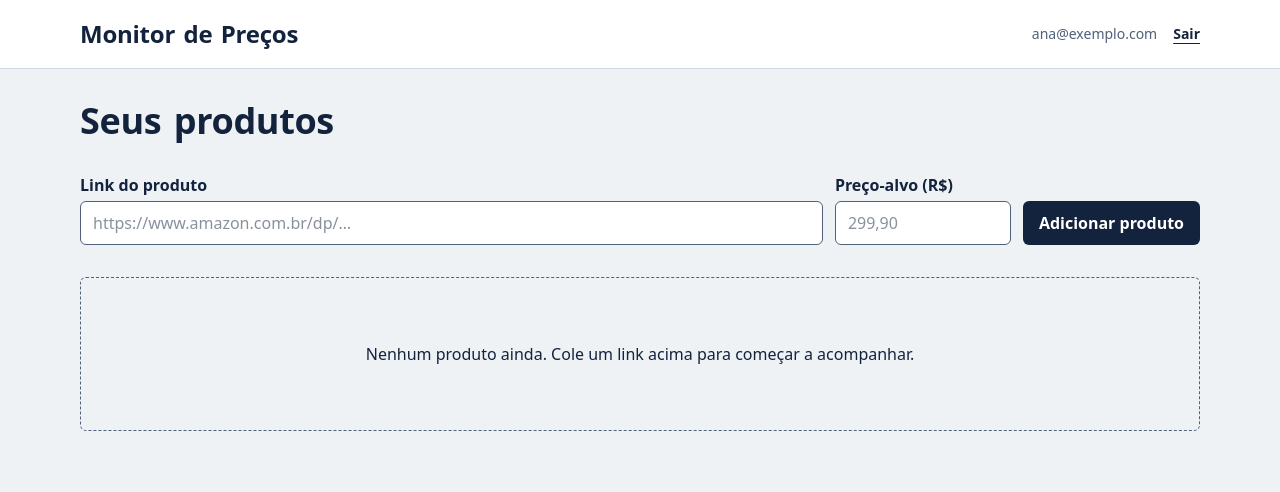
Test: formulário valida antes de enviar
Type "https://kabum.com.br/x" into the field labelled "Link do produto" at {"x": 451, "y": 223}, box [80, 201, 823, 245]
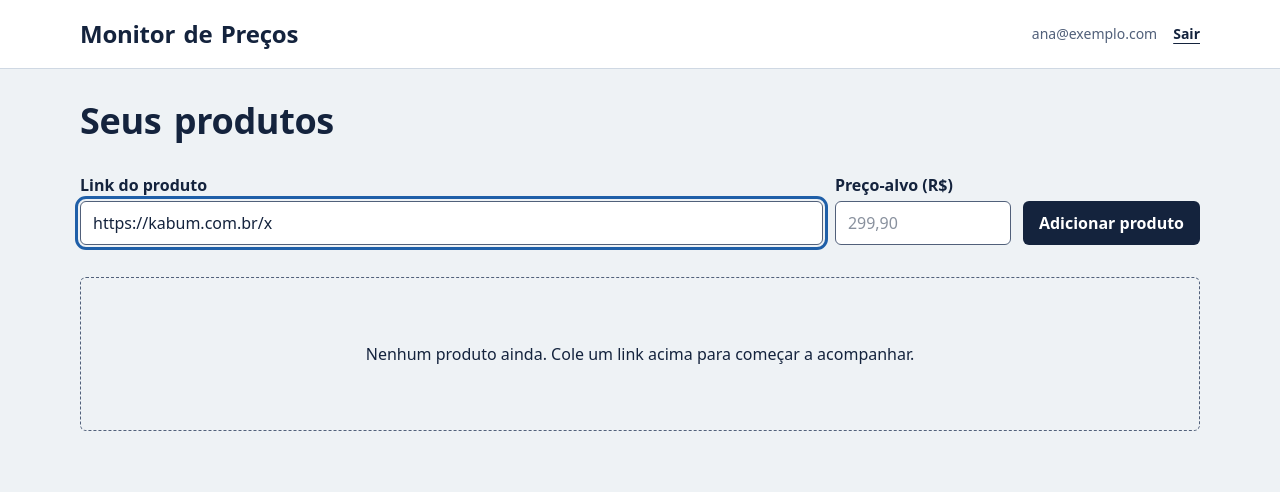
Type "abc" into the field labelled "Preço-alvo (R$)" at {"x": 923, "y": 223}, box [835, 201, 1011, 245]
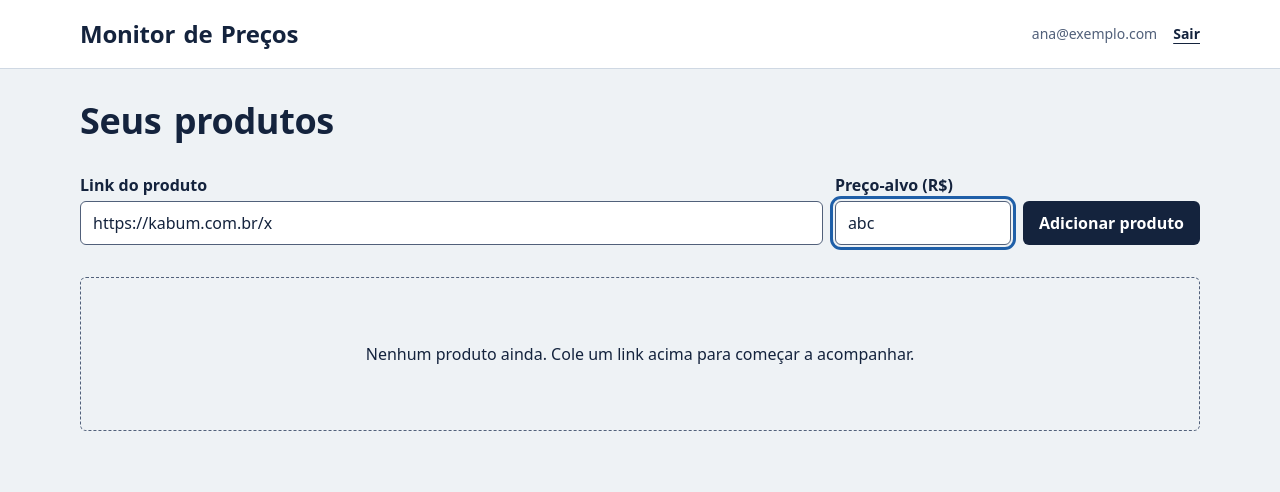
Click the button "Adicionar produto" at {"x": 1111, "y": 223}, box [1023, 201, 1200, 245]
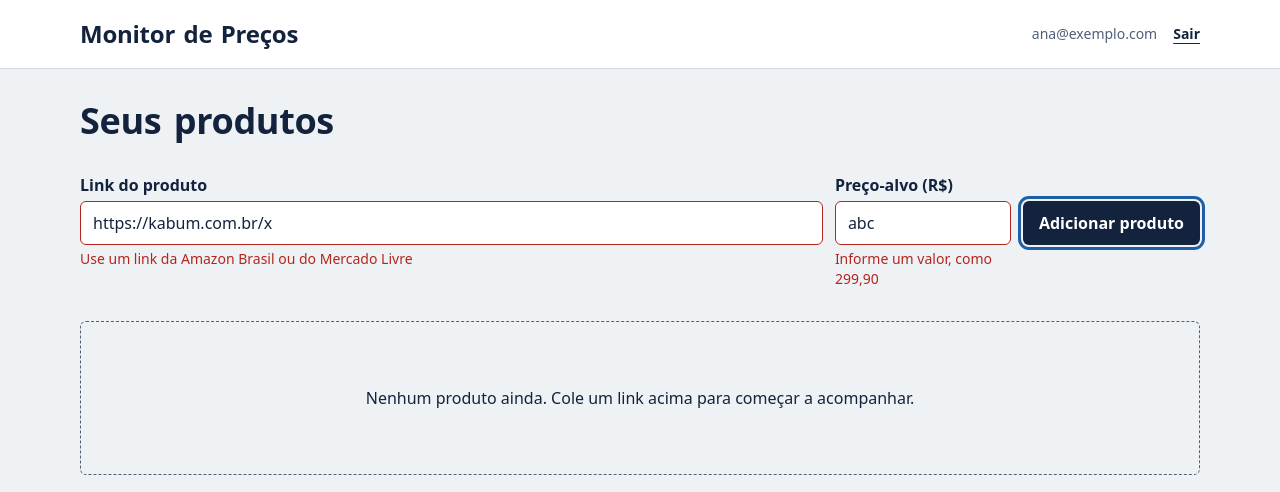
Expected: the text "Use um link da Amazon Brasil ou do Mercado Livre" is shown, [80, 249, 412, 268]
Expected: the text "Informe um valor, como 299,90" is shown, [835, 249, 1011, 289]
